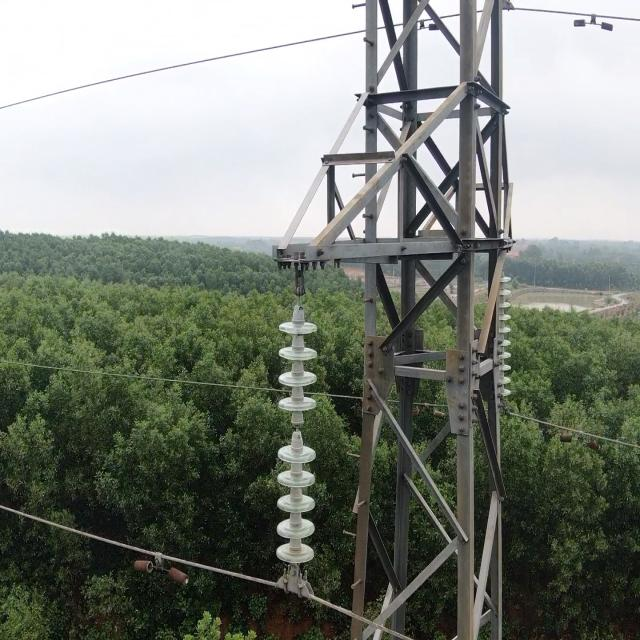杆塔: (255, 0, 536, 640)
正常绝缘子: (270, 282, 318, 596), (492, 261, 517, 415)
绝缘子破损: (291, 413, 304, 441)
